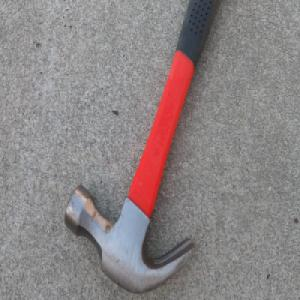Hammer: (63, 0, 222, 297)
